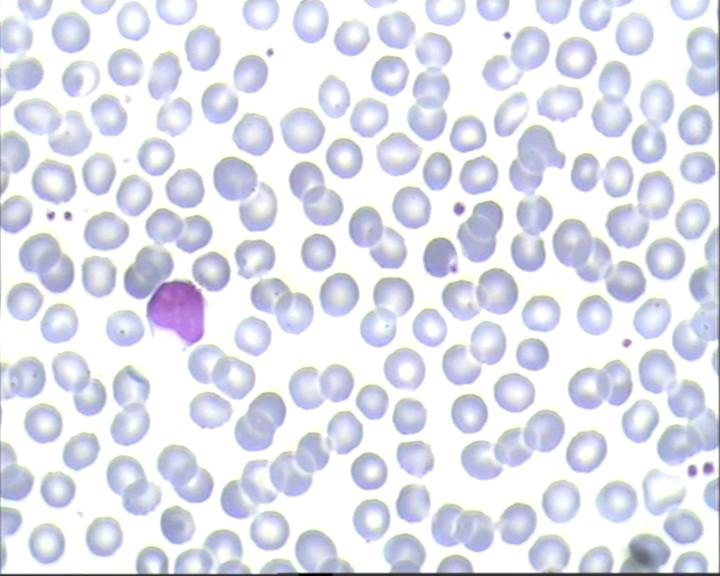lymp: (144, 275, 210, 357)
